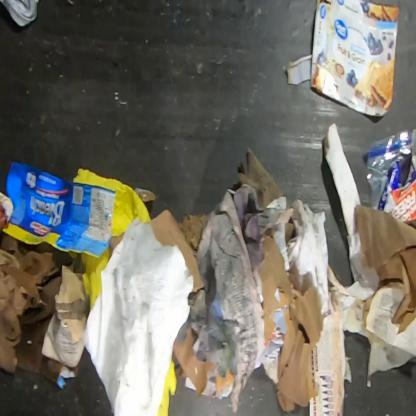cardboard: (286, 0, 401, 117), (0, 231, 80, 390), (308, 263, 376, 415), (41, 264, 90, 368), (149, 209, 205, 293), (172, 327, 217, 399)
rigid_plastic: (0, 0, 40, 28)
soft_plastic: (72, 168, 151, 238), (366, 127, 412, 210), (80, 245, 113, 312), (156, 359, 178, 415)
